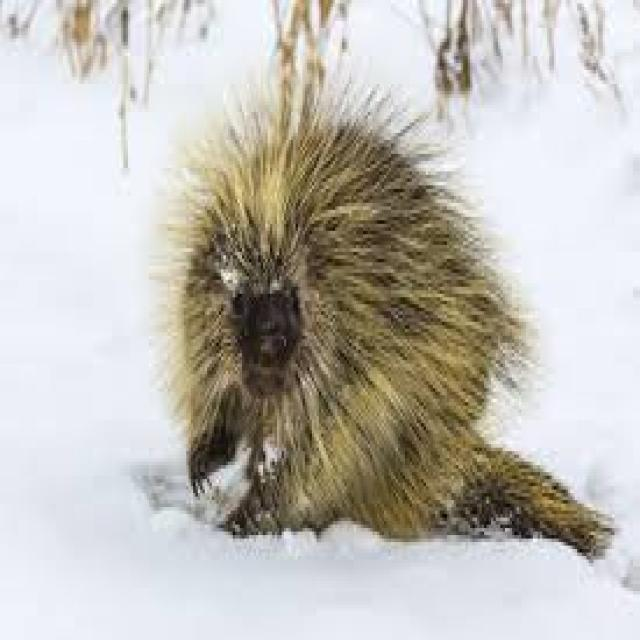Porcupine: (173, 115, 526, 548)
